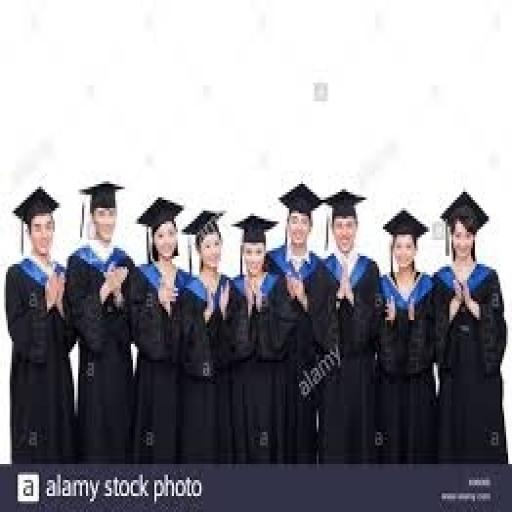clapping: (2, 176, 510, 464), (62, 179, 140, 464), (428, 187, 508, 464), (129, 195, 209, 464), (264, 181, 338, 464), (2, 184, 76, 464), (315, 187, 383, 464), (225, 211, 297, 464), (373, 205, 436, 464), (178, 208, 238, 464)
